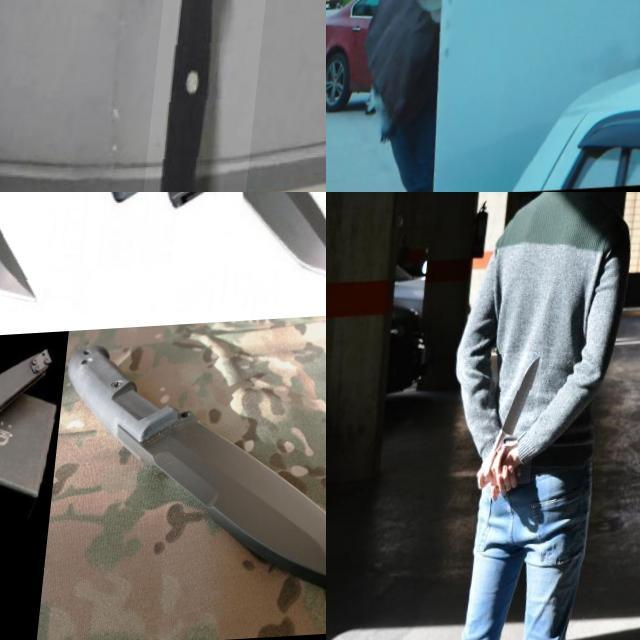-: (121, 396, 326, 623), (150, 0, 301, 192), (220, 192, 326, 297), (0, 469, 59, 640), (0, 192, 80, 313), (487, 355, 547, 489)
gun-knife-thesis - v11 Yolov5 augmented: (539, 0, 585, 45)
